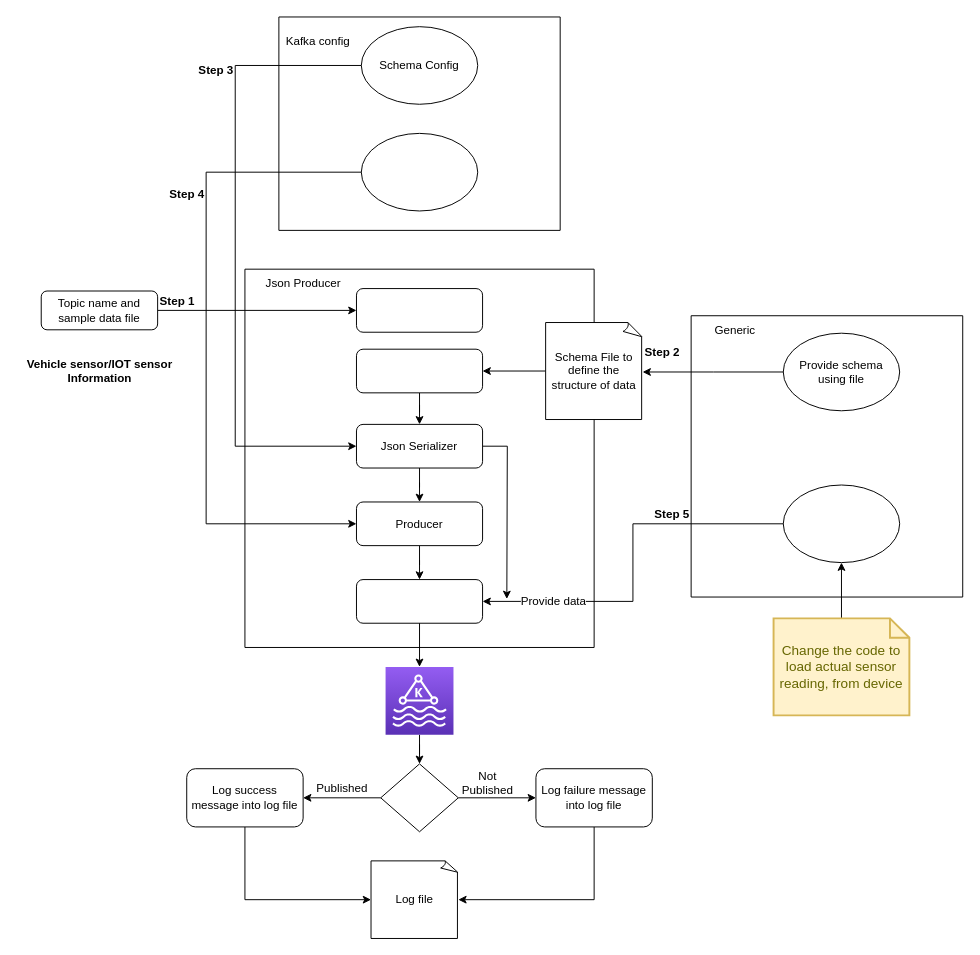
Image size: 980x955. Some labels were removed from this diagram. Each missing label, with the box of its shape:
Get Schema Structure: (356, 348, 483, 393)
Json record generator: (782, 484, 900, 563)
Kafka Cluster Config: (360, 132, 478, 211)
Send data to Kafka: (356, 579, 483, 623)
Topic name and file location: (356, 288, 483, 332)
